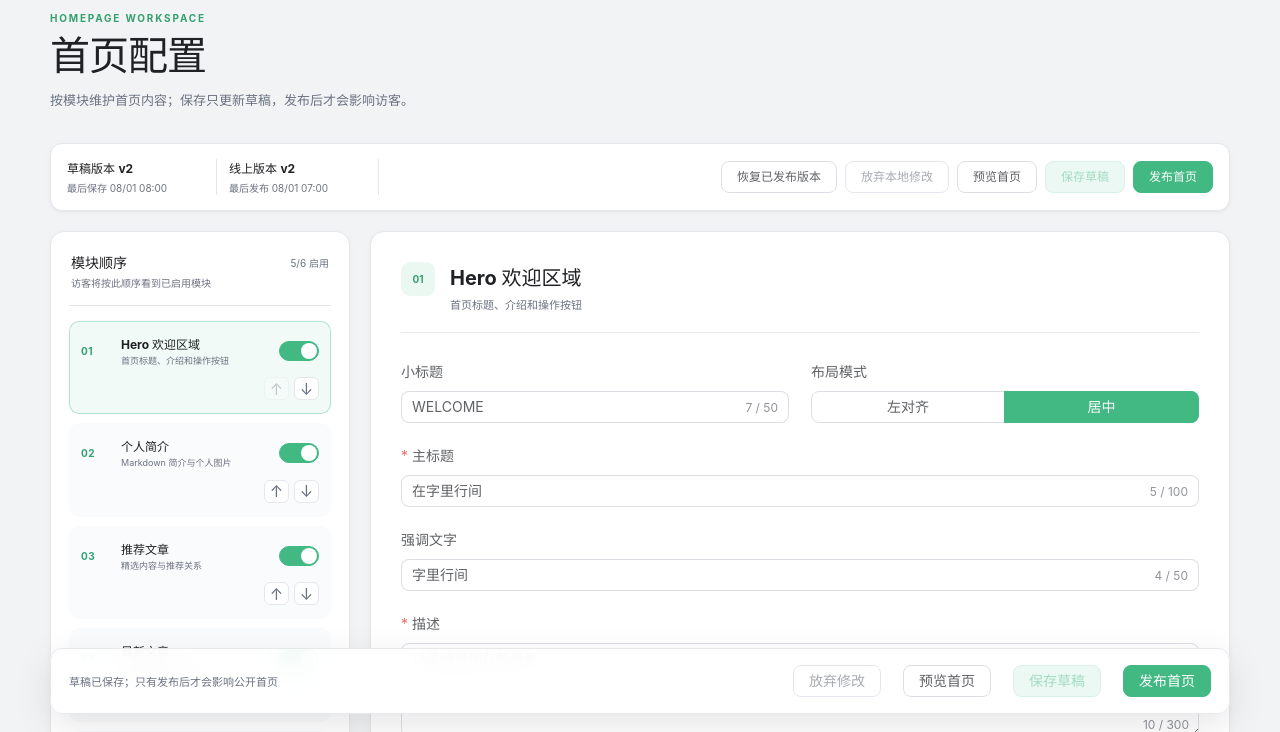
HomepageSettingsView › saves the draft before publishing and confirms the publish action
Replace the text in the field with placeholder "例如：WELCOME" with "NEW WELCOME" at (571, 407), box [412, 392, 729, 422]
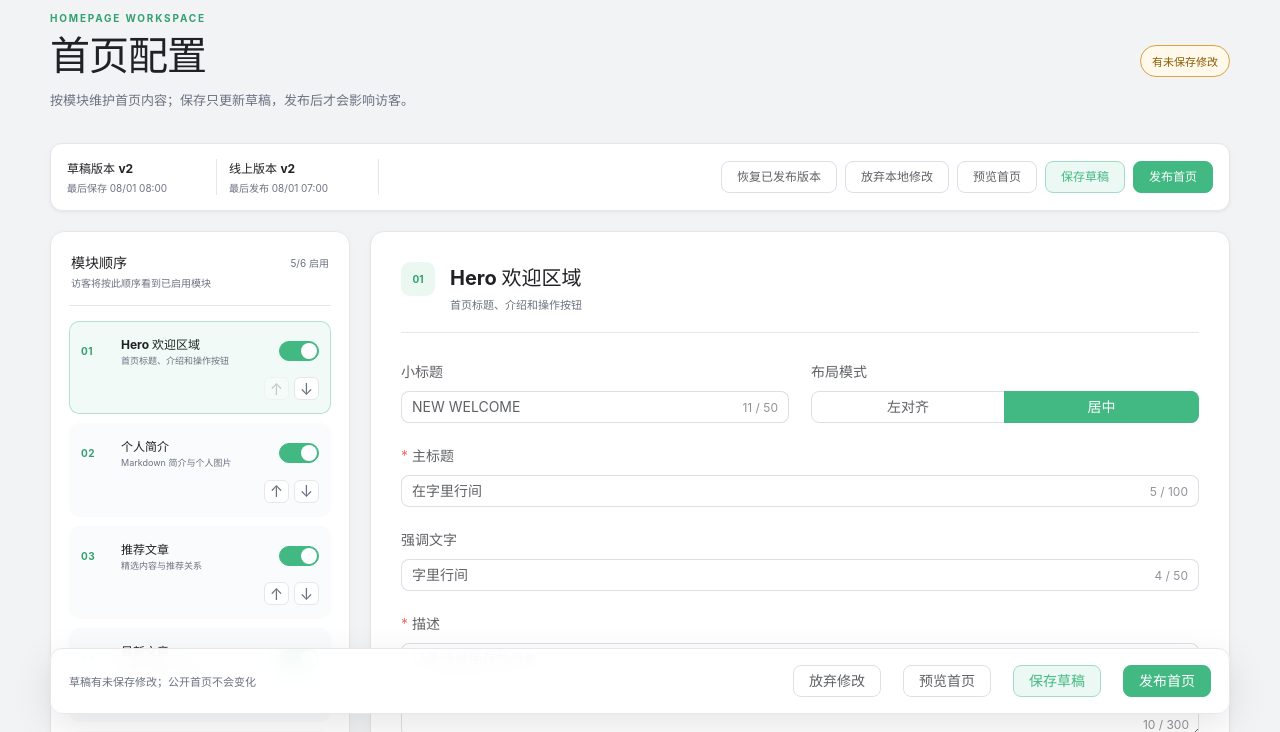
Click the button "保存草稿" in the row of "最后发布 08/01 07:00" at (1085, 177), box [1045, 161, 1125, 193]
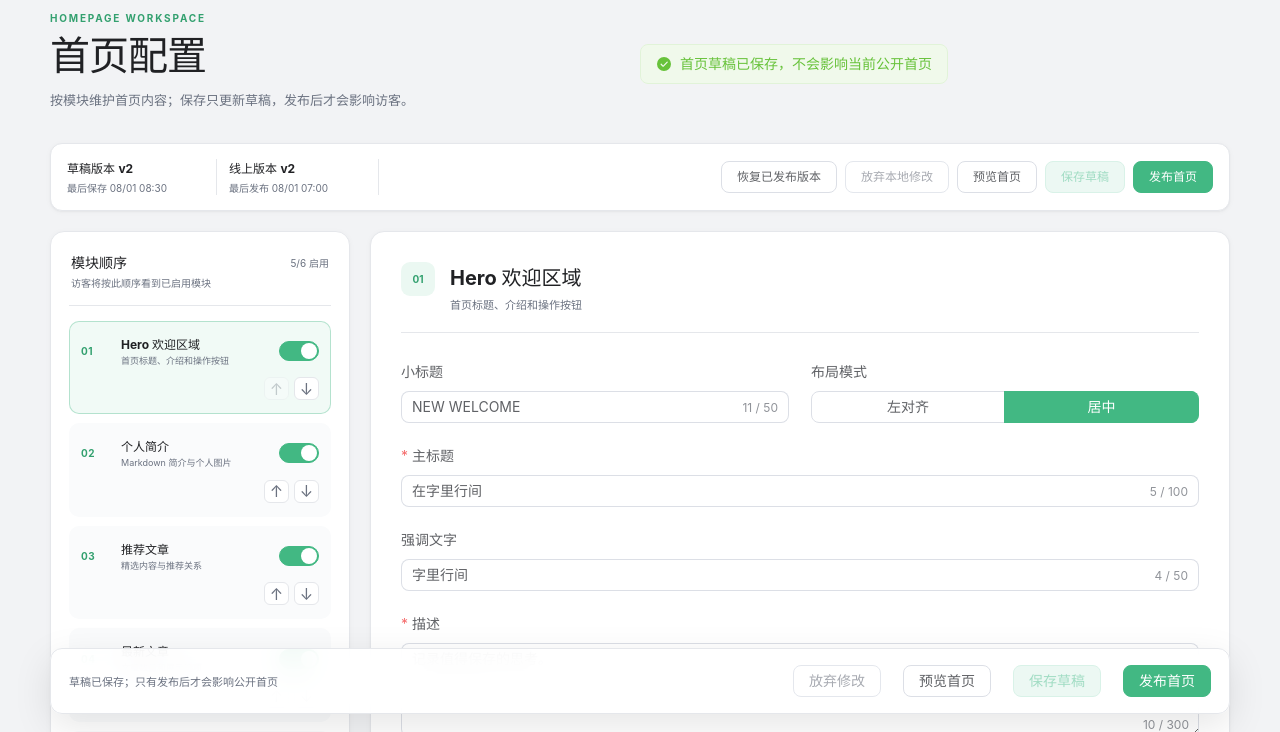
Result: the text "有未保存修改" is gone
Click the button "发布首页" in the row of "最后发布 08/01 07:00" at (1173, 177), box [1133, 161, 1213, 193]
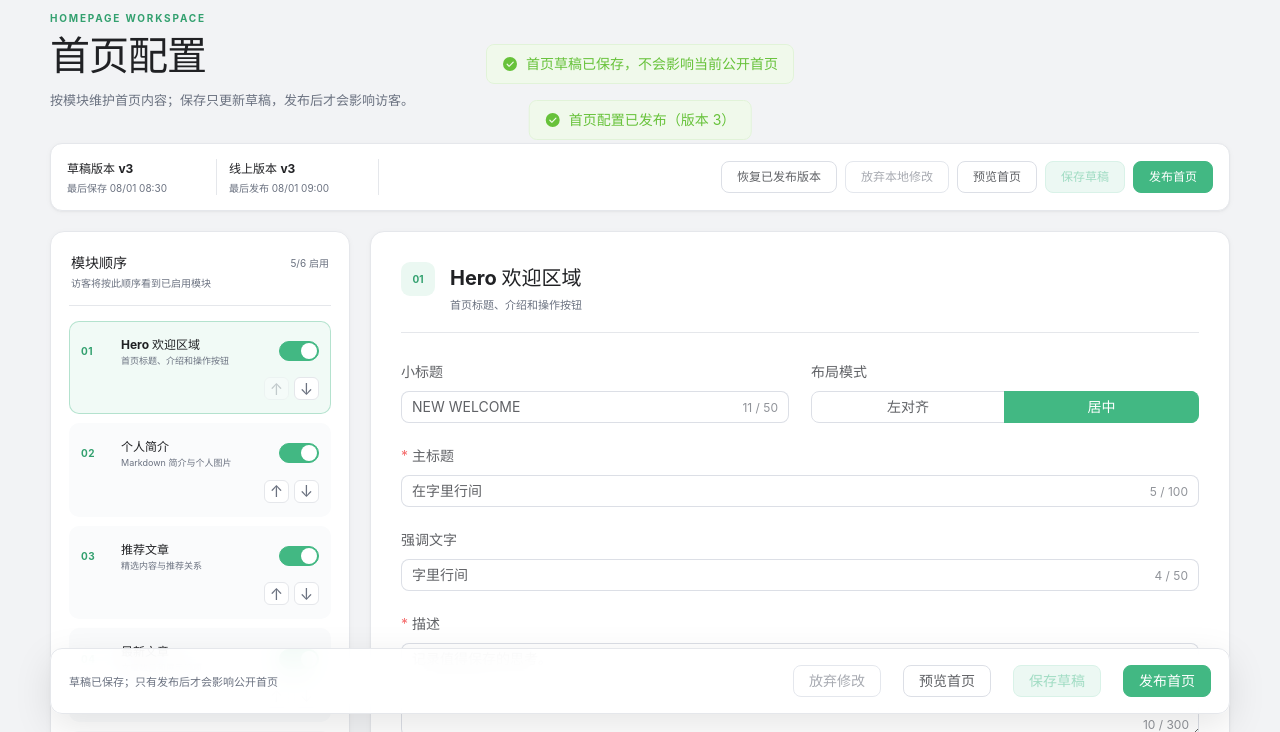
Result: the text "v3" is shown at [118, 161, 133, 176]
